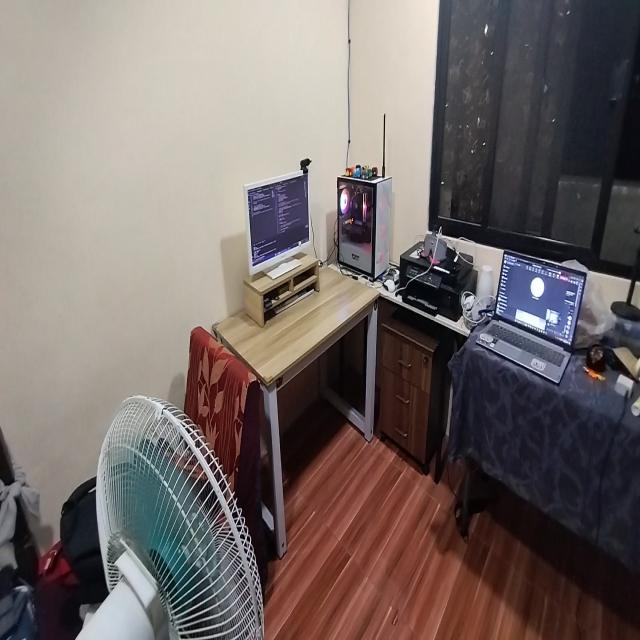table: (218, 255, 382, 561)
